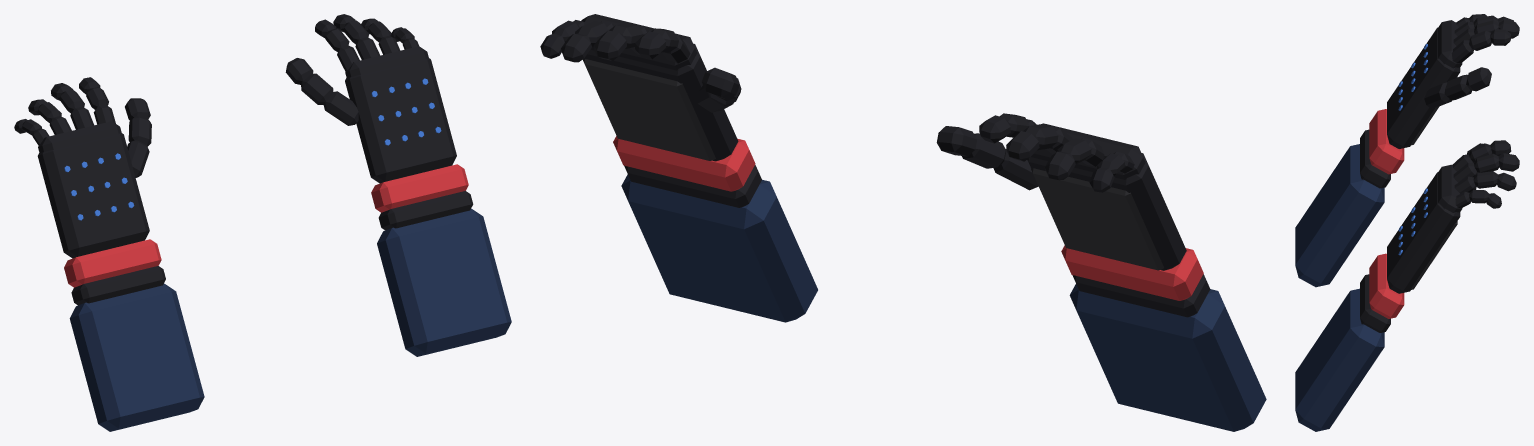
Rendered from hands_open.glb.
3 views of the same model, side by side, from view 1: azimuth 30°, elevation 25°; view 2: azimuth 150°, elevation 25°; view 3: azimuth 270°, elevation 25° (orthographic). The views are drawn at different scales.
Parts seen in each view (by area): view 1: LeftSleeve, RightSleeve, LeftPalm, RightPalm, LeftCuffRed, RightCuffRed, RightWristBand, LeftWristBand, LeftKnuckles, RightKnuckles, RightThumb1, RightThumb2 (+3 smaller); view 2: LeftSleeve, RightSleeve, RightPalmPad, LeftPalmPad, LeftCuffRed, RightCuffRed, LeftPalm, RightPalm, LeftWristBand, RightWristBand, LeftKnuckles, RightKnuckles (+6 smaller); view 3: RightSleeve, LeftSleeve, RightPalm, LeftPalm, RightCuffRed, LeftCuffRed, LeftWristBand, RightWristBand, RightKnuckles, LeftKnuckles, LeftThumb2, LeftThumb3 (+16 smaller).
Part boxes in pixels (x1,y1,x2,y2): LeftSleeve: (69, 283, 204, 431); RightSleeve: (377, 208, 511, 356); LeftPalm: (37, 133, 149, 258); RightPalm: (345, 58, 456, 183); LeftCuffRed: (64, 239, 161, 287); RightCuffRed: (371, 164, 468, 212); RightWristBand: (378, 191, 473, 230); LeftWristBand: (71, 266, 165, 305); LeftKnuckles: (38, 121, 121, 152); RightKnuckles: (345, 46, 428, 77); RightThumb1: (323, 91, 358, 125); RightThumb2: (301, 73, 333, 104); LeftSleeve: (1069, 284, 1266, 431); RightSleeve: (621, 174, 817, 322); RightPalmPad: (583, 59, 715, 160); LeftPalmPad: (1031, 168, 1163, 270); LeftCuffRed: (1061, 245, 1203, 300); RightCuffRed: (613, 136, 755, 191); LeftPalm: (1027, 153, 1186, 270); RightPalm: (583, 43, 738, 161); LeftWristBand: (1072, 274, 1210, 317); RightWristBand: (624, 165, 761, 207); LeftKnuckles: (1031, 123, 1145, 179); RightKnuckles: (581, 14, 697, 70); RightSleeve: (1295, 288, 1384, 431); LeftSleeve: (1295, 144, 1384, 287); RightPalm: (1387, 172, 1460, 293); LeftPalm: (1387, 27, 1460, 148); RightCuffRed: (1369, 253, 1404, 318); LeftCuffRed: (1369, 109, 1404, 174); LeftWristBand: (1360, 129, 1390, 188); RightWristBand: (1360, 274, 1390, 332); RightKnuckles: (1438, 164, 1462, 212); LeftKnuckles: (1438, 20, 1462, 68); LeftThumb2: (1444, 74, 1472, 100); LeftThumb3: (1466, 67, 1491, 91).
Bounding box in the file's own units: 0.448 × 0.2789 × 0.2231.
